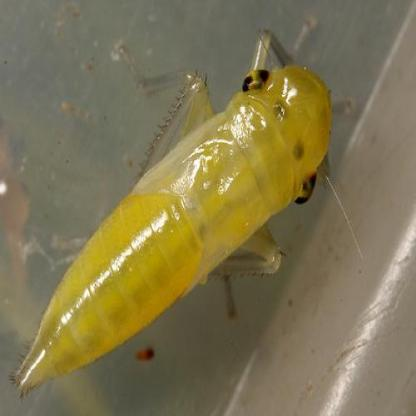Green-Leafhopper: (13, 21, 337, 401)
